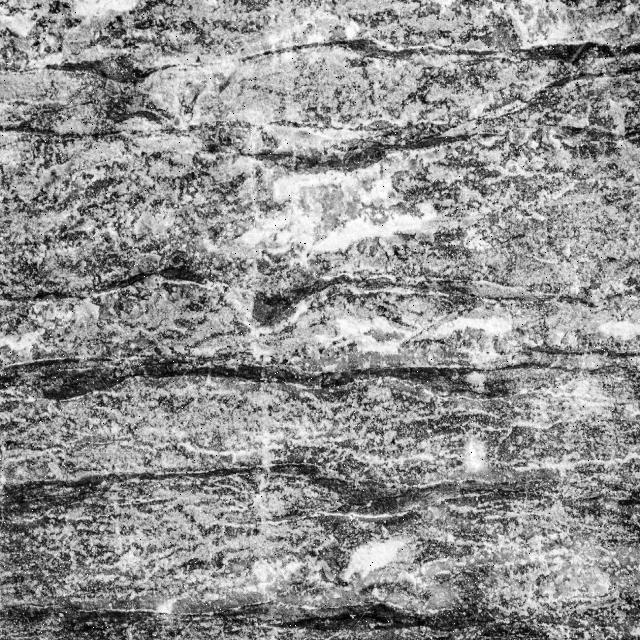Igneous: (1, 1, 639, 634)
